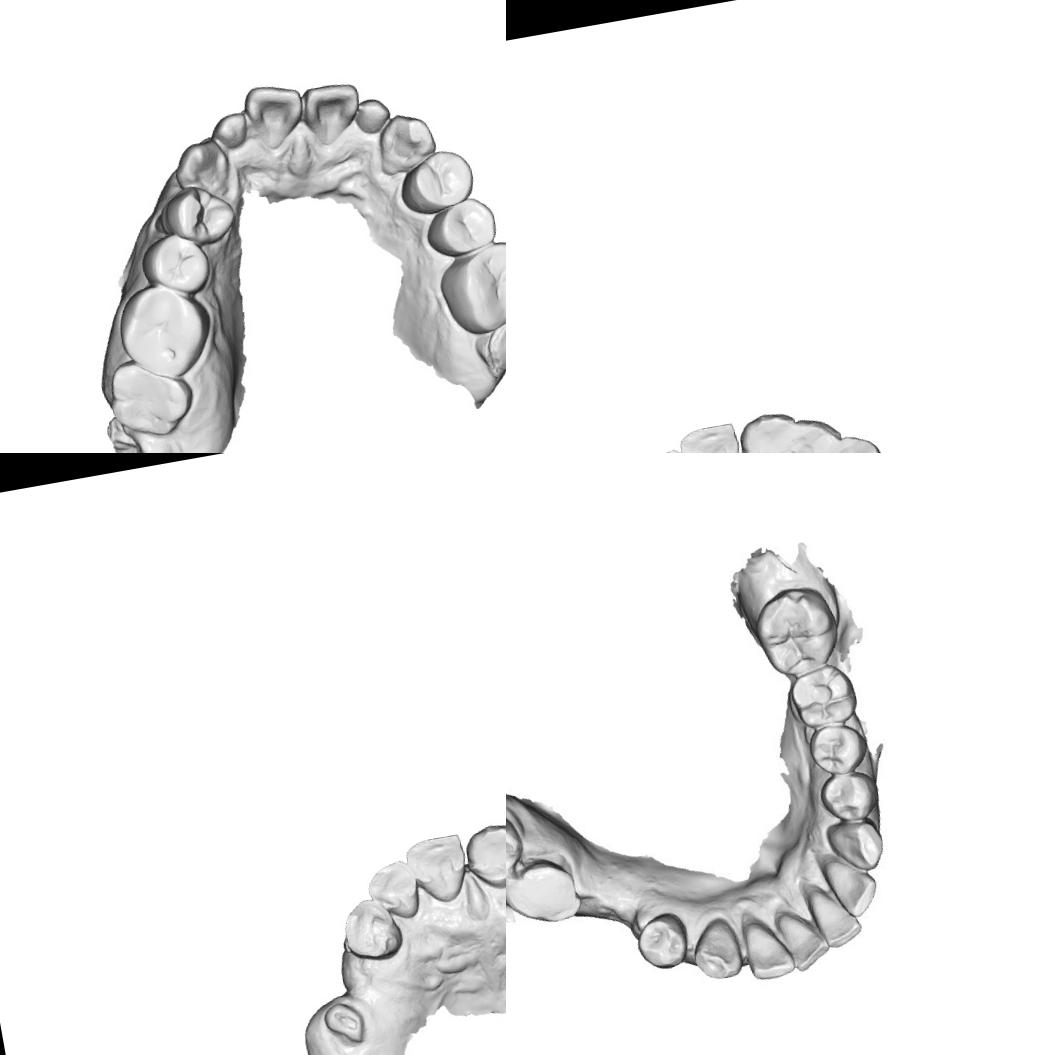canine: (336, 888, 408, 966), (370, 108, 440, 178), (168, 136, 234, 204), (691, 918, 744, 982), (830, 816, 886, 872), (819, 426, 892, 453)
incisor: (402, 830, 472, 908), (296, 78, 368, 150), (241, 78, 308, 152), (362, 854, 425, 924), (818, 844, 878, 917), (805, 877, 864, 950), (773, 905, 832, 973), (738, 908, 792, 982), (460, 819, 506, 894), (734, 408, 800, 453), (787, 410, 848, 453), (676, 418, 746, 453), (351, 94, 393, 136), (208, 110, 250, 151)
molar: (110, 274, 219, 386), (102, 352, 200, 446), (754, 579, 846, 679), (431, 237, 506, 340), (506, 854, 582, 933), (788, 660, 858, 730), (506, 798, 526, 892)
premolar: (152, 178, 238, 252), (393, 144, 479, 218), (136, 226, 214, 302), (420, 194, 500, 262), (632, 914, 690, 972), (810, 717, 868, 772), (822, 768, 876, 822)
